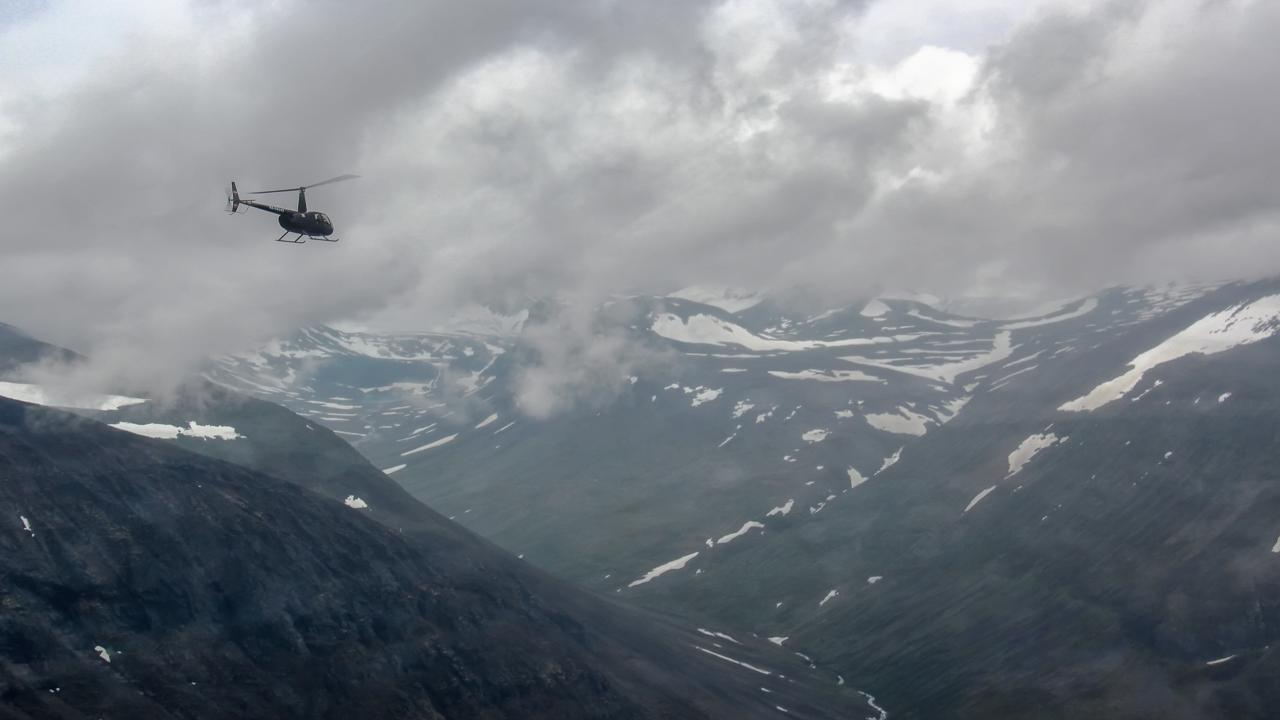Helicopter: (202, 142, 390, 260)
